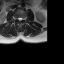CCS_normal: (19, 16, 21, 23)
LFS_normal: (22, 16, 24, 21)
LLS_normal: (21, 16, 22, 21)
RFS_stenosis: (15, 16, 17, 20)
RLS_normal: (17, 16, 19, 20)
